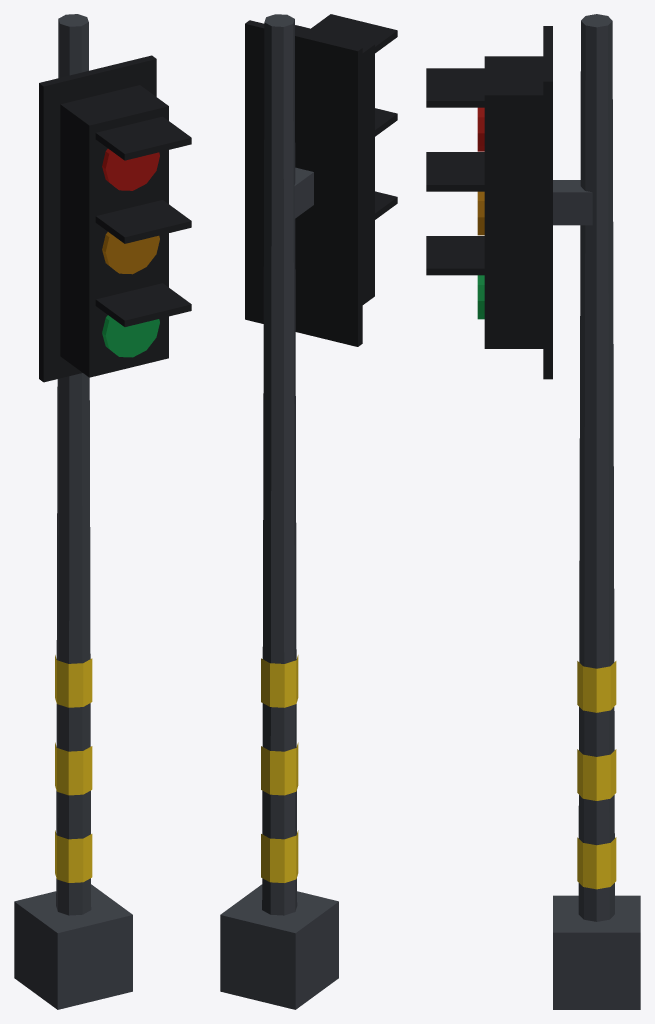
Rendered from prop_signal_pole.glb.
3 renders of one model, left to right at view 1: azimuth 30°, elevation 25°; view 2: azimuth 150°, elevation 25°; view 3: azimuth 270°, elevation 25°, orthographic.
Visible parts, largest first — view 1: prop_signal_pole; view 2: prop_signal_pole; view 3: prop_signal_pole.
Boxes of the visible parts, x1=… form: prop_signal_pole: x1=14, y1=14, x2=191, y2=1009; prop_signal_pole: x1=220, y1=14, x2=397, y2=1009; prop_signal_pole: x1=426, y1=14, x2=640, y2=1009.
Size of what is drawn, in the model's own units: 0.54 by 4.4 by 0.88.
